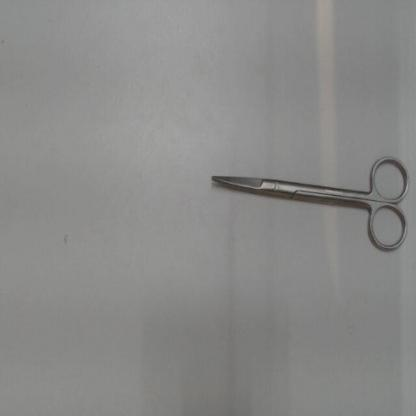Curved Mayo Scissors: (209, 149, 410, 260)
